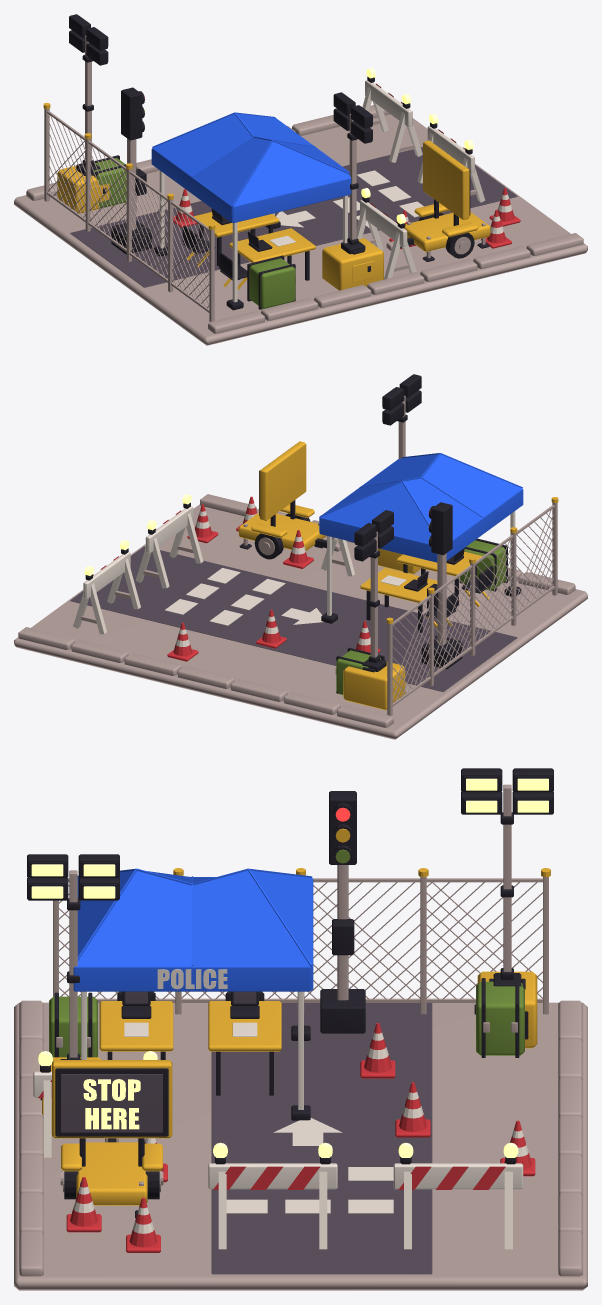
The model's file is kit.police-checkpoint.glb.
The picture shows the model from 3 angles, top to bottom: view 1: azimuth 30°, elevation 25°; view 2: azimuth 150°, elevation 25°; view 3: azimuth 270°, elevation 25°; orthographic projection. The views are drawn at different scales.
Size of the model in its own units: 9.4 by 4.4 by 8.2.
